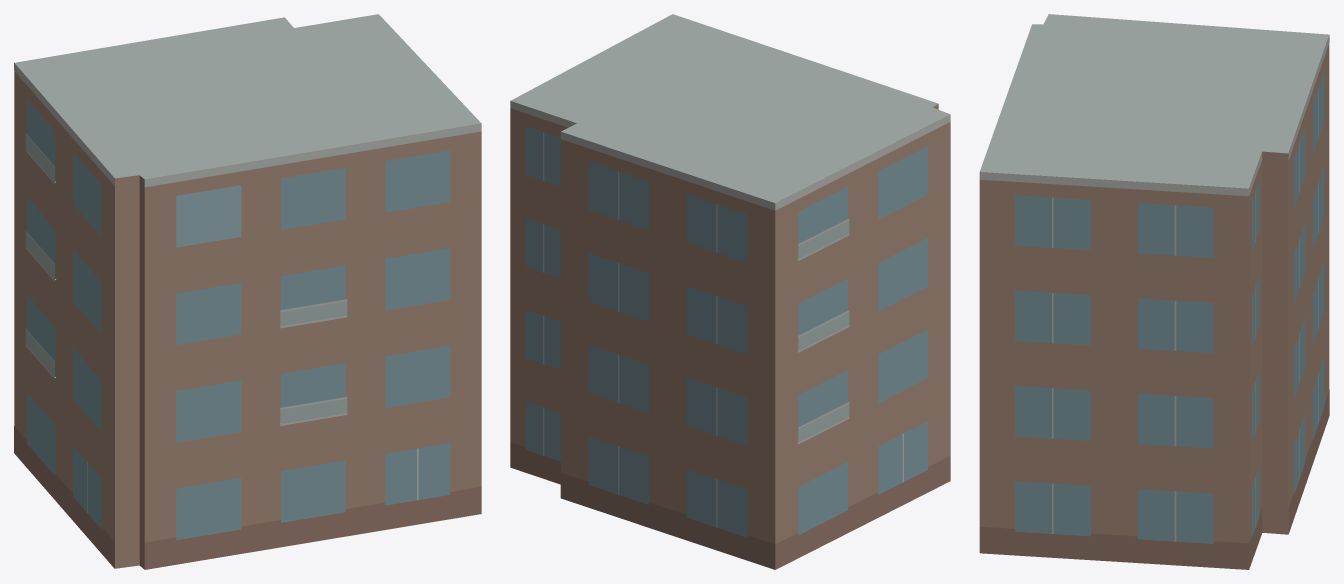
Rendered from survey-upis-32820842.glb.
The picture shows the model from 3 angles, left to right: view 1: azimuth 30°, elevation 25°; view 2: azimuth 150°, elevation 25°; view 3: azimuth 270°, elevation 25°; orthographic projection. The views are drawn at different scales.
Parts seen in each view (by area): view 1: survey-upis-32820842.tmp; view 2: survey-upis-32820842.tmp; view 3: survey-upis-32820842.tmp.
Boxes of the visible parts, x1=… form: survey-upis-32820842.tmp: x1=14, y1=14, x2=481, y2=569; survey-upis-32820842.tmp: x1=510, y1=14, x2=950, y2=569; survey-upis-32820842.tmp: x1=979, y1=14, x2=1329, y2=569.
Size of the model in its own units: 11.84 by 12.05 by 10.03.
